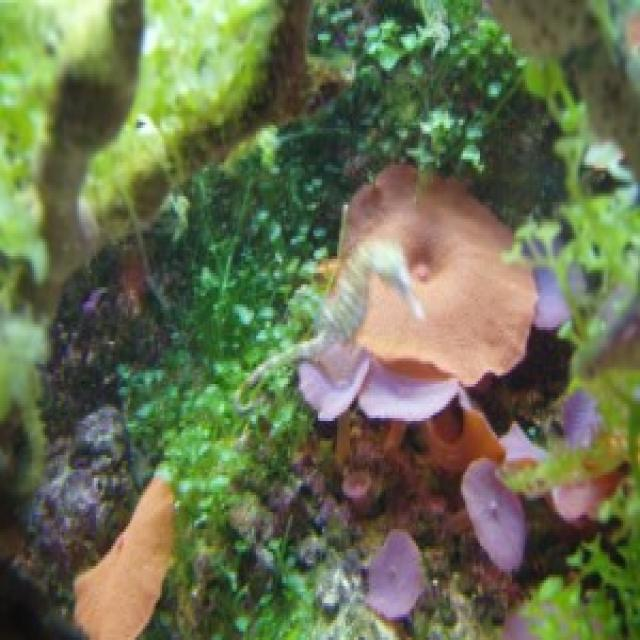Seahorse: (247, 230, 433, 400)
